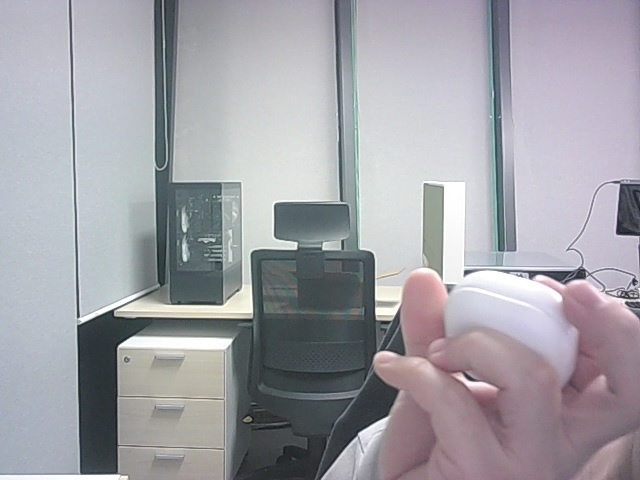case: (445, 271, 577, 382)
